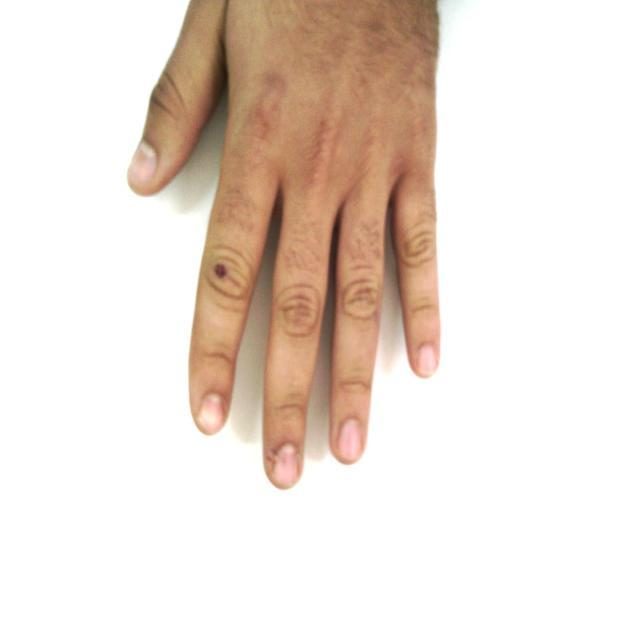Fingernail: (131, 144, 157, 184), (274, 444, 297, 487), (339, 419, 362, 461), (200, 395, 223, 431), (418, 344, 436, 375)
